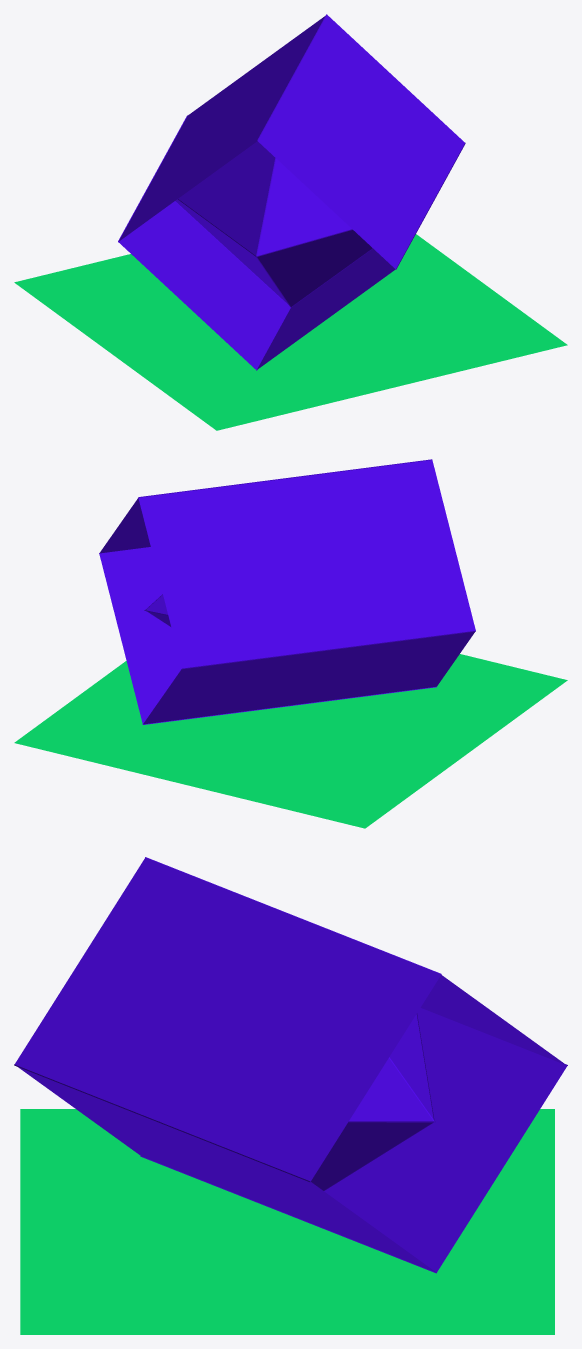
File: AR4color.glb
3 views of the same model, one above another, from view 1: azimuth 30°, elevation 25°; view 2: azimuth 150°, elevation 25°; view 3: azimuth 270°, elevation 25° (orthographic). The views are drawn at different scales.
Visible parts, largest first — view 1: Cube, Plane; view 2: Cube, Plane; view 3: Cube, Plane.
Boxes of the visible parts, x1,y1,x2,y2 form: Cube: [118, 14, 465, 370]; Plane: [14, 234, 567, 430]; Cube: [99, 459, 475, 724]; Plane: [14, 654, 567, 828]; Cube: [14, 857, 567, 1273]; Plane: [20, 1109, 554, 1334].
Bounding box in the file's own units: 2.06 × 1.27 × 2.07.
